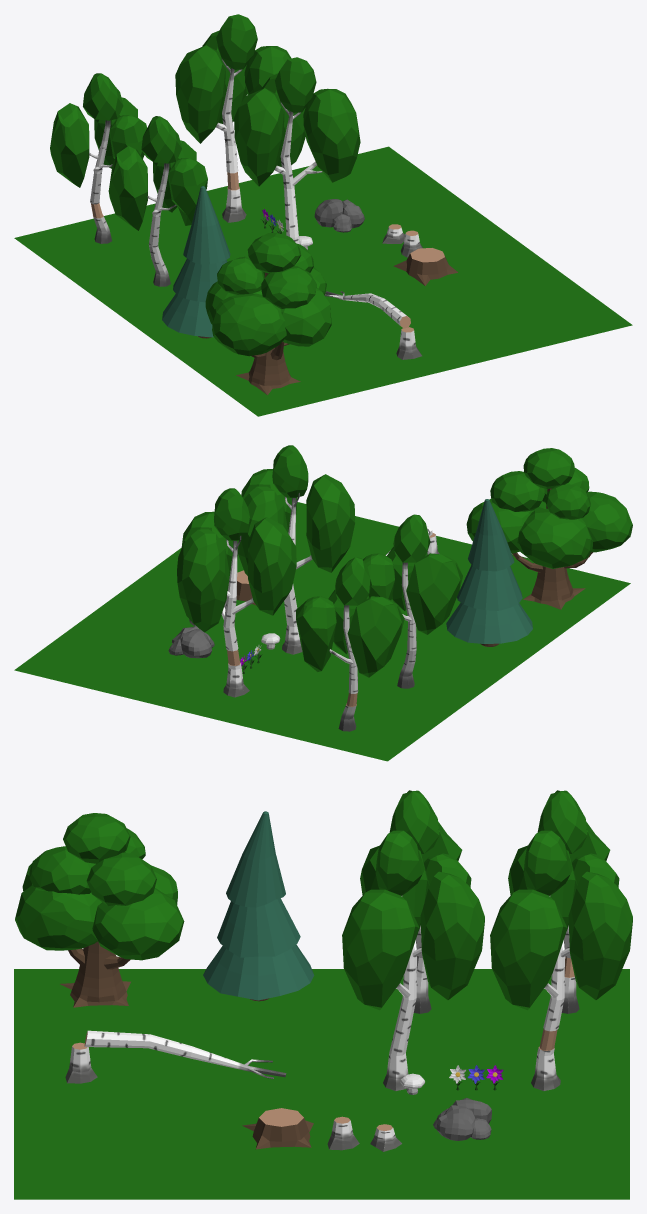
3 views of the same model, one above another, from view 1: azimuth 30°, elevation 25°; view 2: azimuth 150°, elevation 25°; view 3: azimuth 270°, elevation 25° (orthographic). The views are drawn at different scales.
Visible parts, largest first — view 1: Plane, Dub, Bereza1_crown, bereza1_crown_cut, Bereza2_crown, Bereza2_crown_cut, El, bereza1_stvol_cut, Bereza1_stvol, poval, pen'_1, rock (+2 smaller); view 2: Plane, Dub, bereza1_crown_cut, Bereza2_crown_cut, Bereza1_crown, El, Bereza2_crown, bereza1_stvol_cut, Bereza1_stvol, Bereza2_stvol_cut, Bereza2_stvol, rock; view 3: Plane, Dub, Bereza1_crown, bereza1_crown_cut, El, poval, Bereza2_crown, Bereza2_crown_cut, bereza1_stvol_cut, Bereza1_stvol, pen'_1, rock (+4 smaller).
Part boxes in pixels (x1,y1,x2,y2): Plane: (14, 146, 632, 416); Dub: (205, 233, 331, 394); Bereza1_crown: (234, 57, 360, 186); bereza1_crown_cut: (175, 14, 291, 143); Bereza2_crown: (108, 116, 207, 230); Bereza2_crown_cut: (50, 73, 146, 187); El: (162, 186, 230, 338); bereza1_stvol_cut: (216, 58, 246, 222); Bereza1_stvol: (274, 101, 322, 244); poval: (324, 291, 421, 359); pen'_1: (393, 248, 457, 285); rock: (314, 199, 364, 232); Plane: (14, 502, 630, 761); Dub: (466, 448, 632, 609); bereza1_crown_cut: (177, 488, 296, 632); Bereza2_crown_cut: (296, 557, 404, 677); Bereza1_crown: (238, 445, 355, 575); El: (446, 499, 532, 646); Bereza2_crown: (363, 514, 462, 634); bereza1_stvol_cut: (221, 536, 253, 697); Bereza1_stvol: (282, 493, 312, 654); Bereza2_stvol_cut: (329, 605, 358, 731); Bereza2_stvol: (397, 562, 416, 688); rock: (168, 626, 214, 658); Plane: (14, 969, 629, 1199); Dub: (15, 813, 184, 1007); Bereza1_crown: (342, 830, 484, 1010); bereza1_crown_cut: (490, 830, 632, 1010); El: (203, 811, 314, 1001); poval: (65, 1030, 286, 1083); Bereza2_crown: (389, 790, 471, 887); Bereza2_crown_cut: (537, 790, 619, 887); bereza1_stvol_cut: (531, 895, 569, 1090); Bereza1_stvol: (383, 895, 421, 1090); pen'_1: (242, 1108, 313, 1149); rock: (433, 1098, 491, 1140).
Bounding box in the file's own units: 1441 × 714 × 1550.
16 materials, 2 textured.
